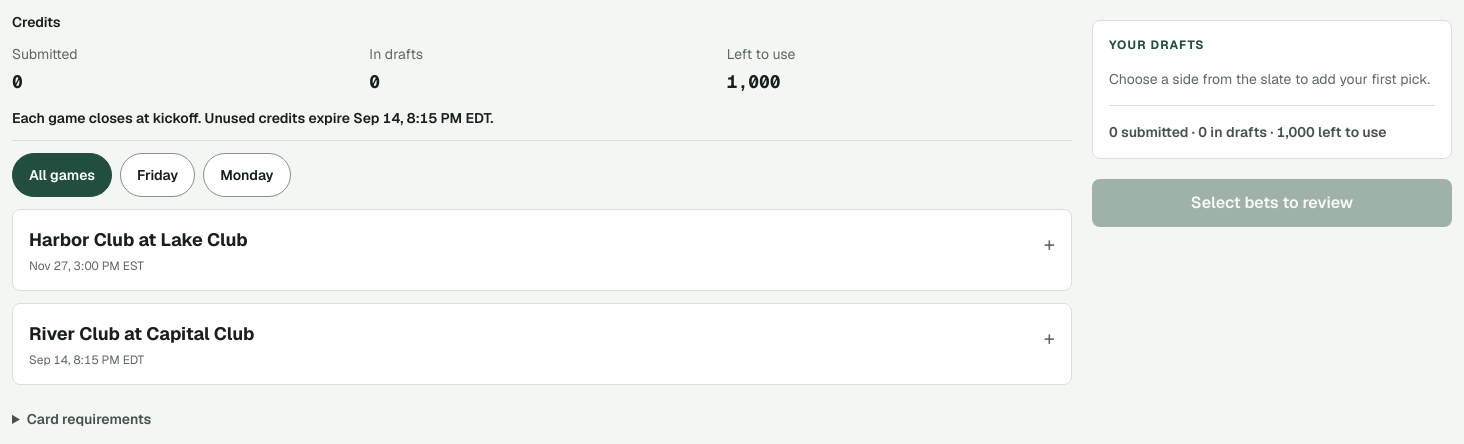
Test: rolling member submission flow › offers Friday only when that window is in the slate
The image size is (1464, 444).
Click the button "Friday". click: click(158, 175)
box: [120,153,195,197]
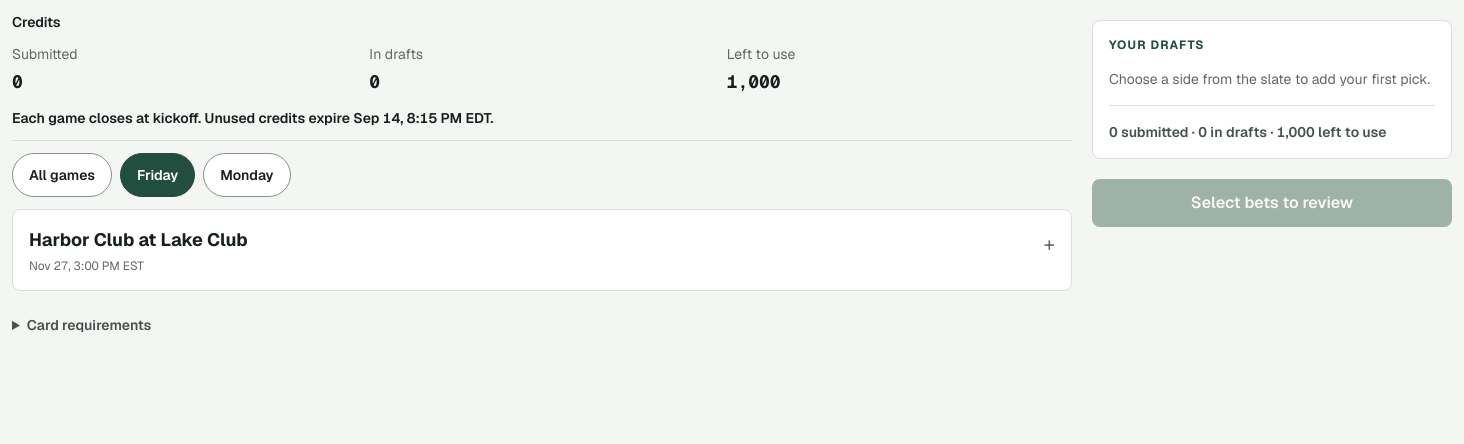
Expected: the element "Harbor Club at Lake Club" is shown, [12,209,1072,291]
Expected: the heading "River Club at Capital Club" is gone
